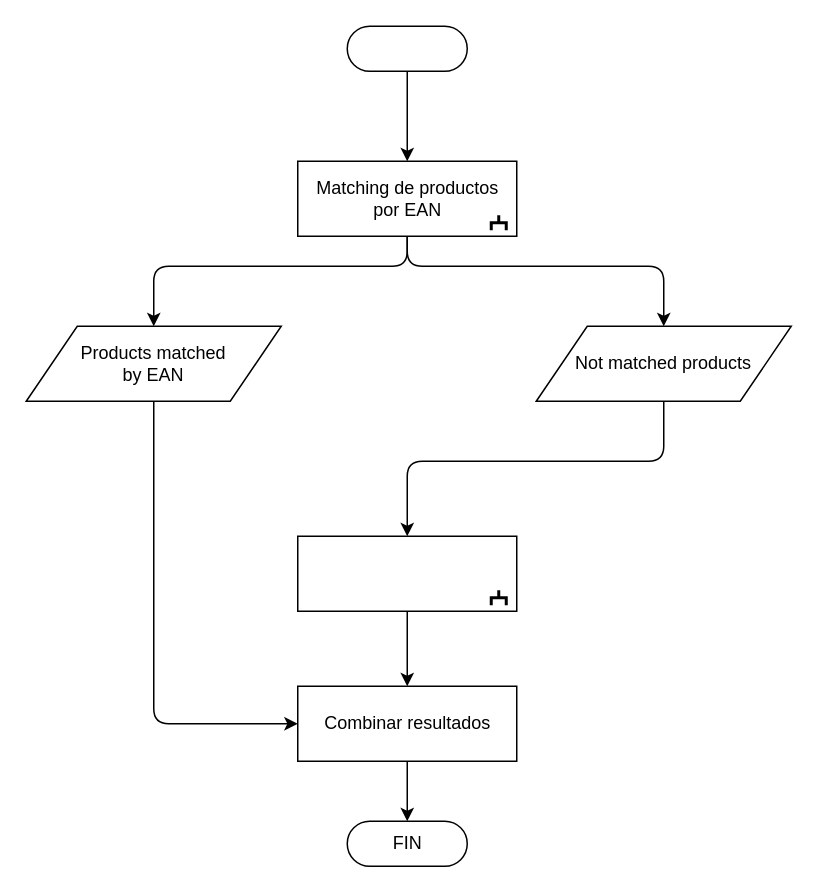
Image size: 818x893. Some labels were removed from this diagram. The shapes that lost their labels are listed below. From the top down, each one's centre as x and y in pixels, then its label:
(406,48): INICIO
(406,573): Matching con clasificador
